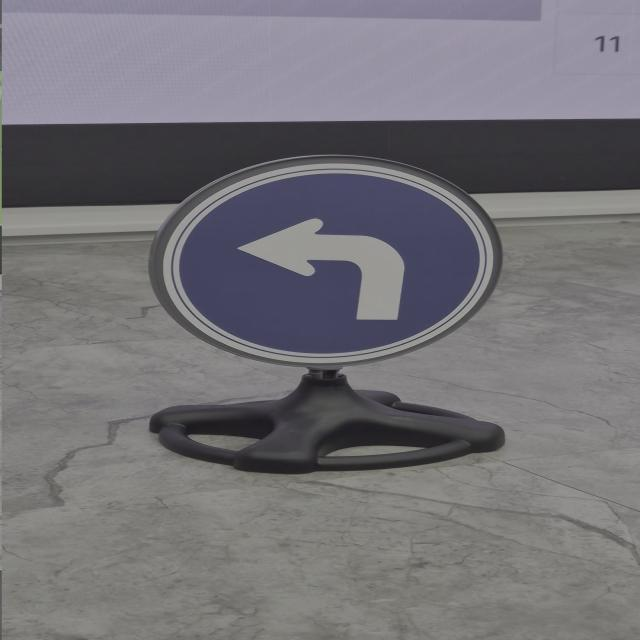left_direction: (116, 150, 510, 371)
